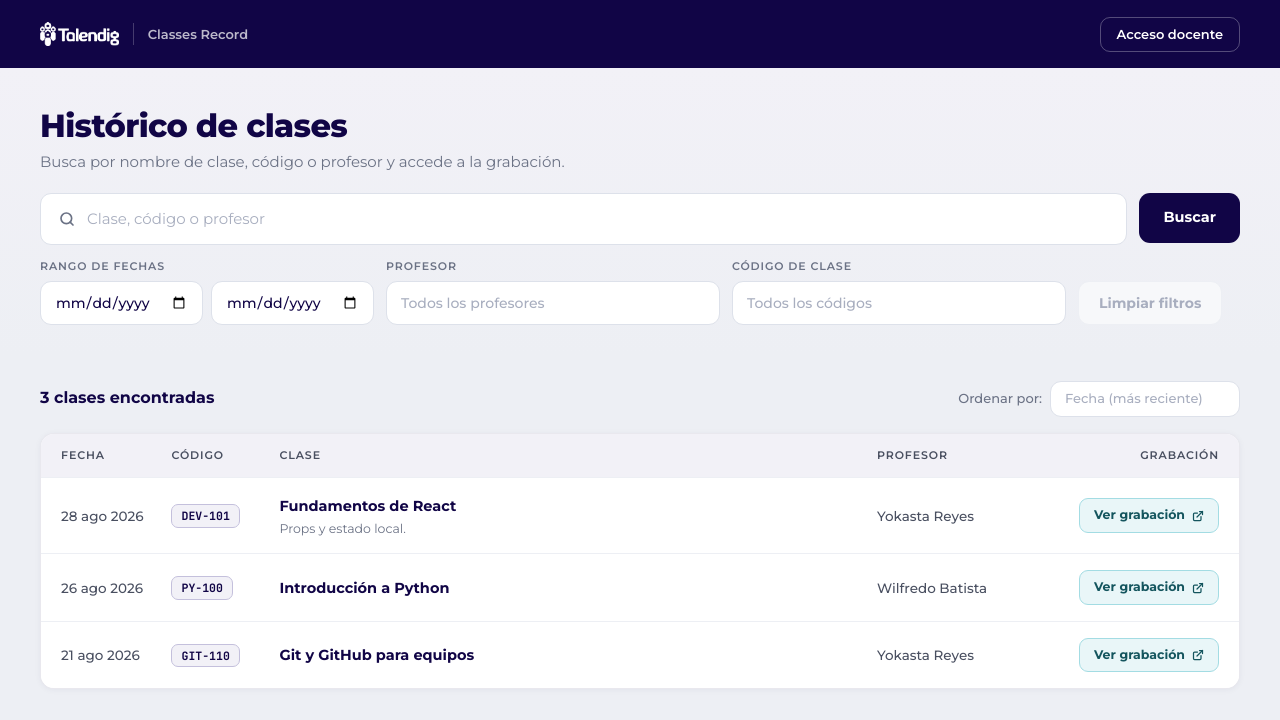
PublicSearchPage › opens the detail panel with the full comment
The width and height of the screenshot is (1280, 720).
Expected: the heading "3 clases encontradas" is shown, [40,388,214,409]
Click the button "Fundamentos de React" at (368, 507), box [280,497,456,517]
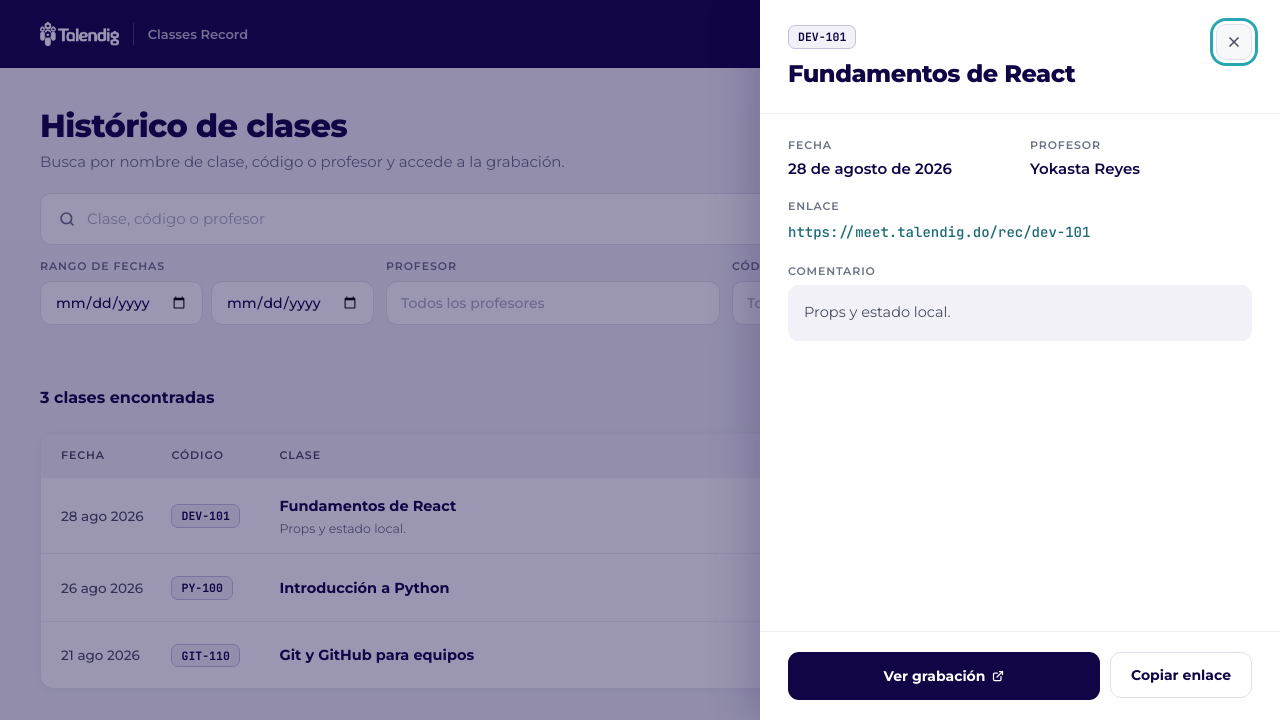
Now the text "28 de agosto de 2026" is shown, box [788,159,952,178]
Now the text "Props y estado local." is shown, box [788,285,1252,341]
